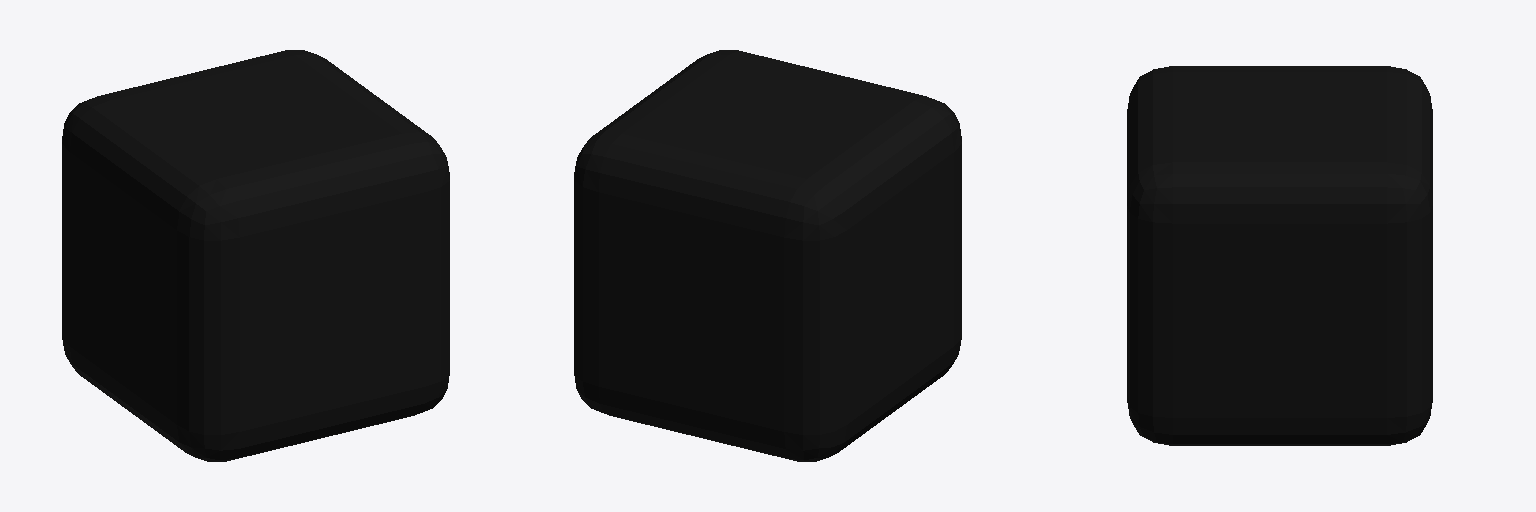
Rendered from robotBlock.obj.
3 views of the same model, side by side, from view 1: azimuth 30°, elevation 25°; view 2: azimuth 150°, elevation 25°; view 3: azimuth 270°, elevation 25° (orthographic).
Visible parts, largest first — view 1: RB; view 2: RB; view 3: RB.
Part boxes in pixels (left/top/right/bottom): RB: left=62, top=50, right=449, bottom=461; RB: left=574, top=50, right=961, bottom=461; RB: left=1127, top=66, right=1432, bottom=445.
Size of the model in its own units: 10 by 10 by 10.